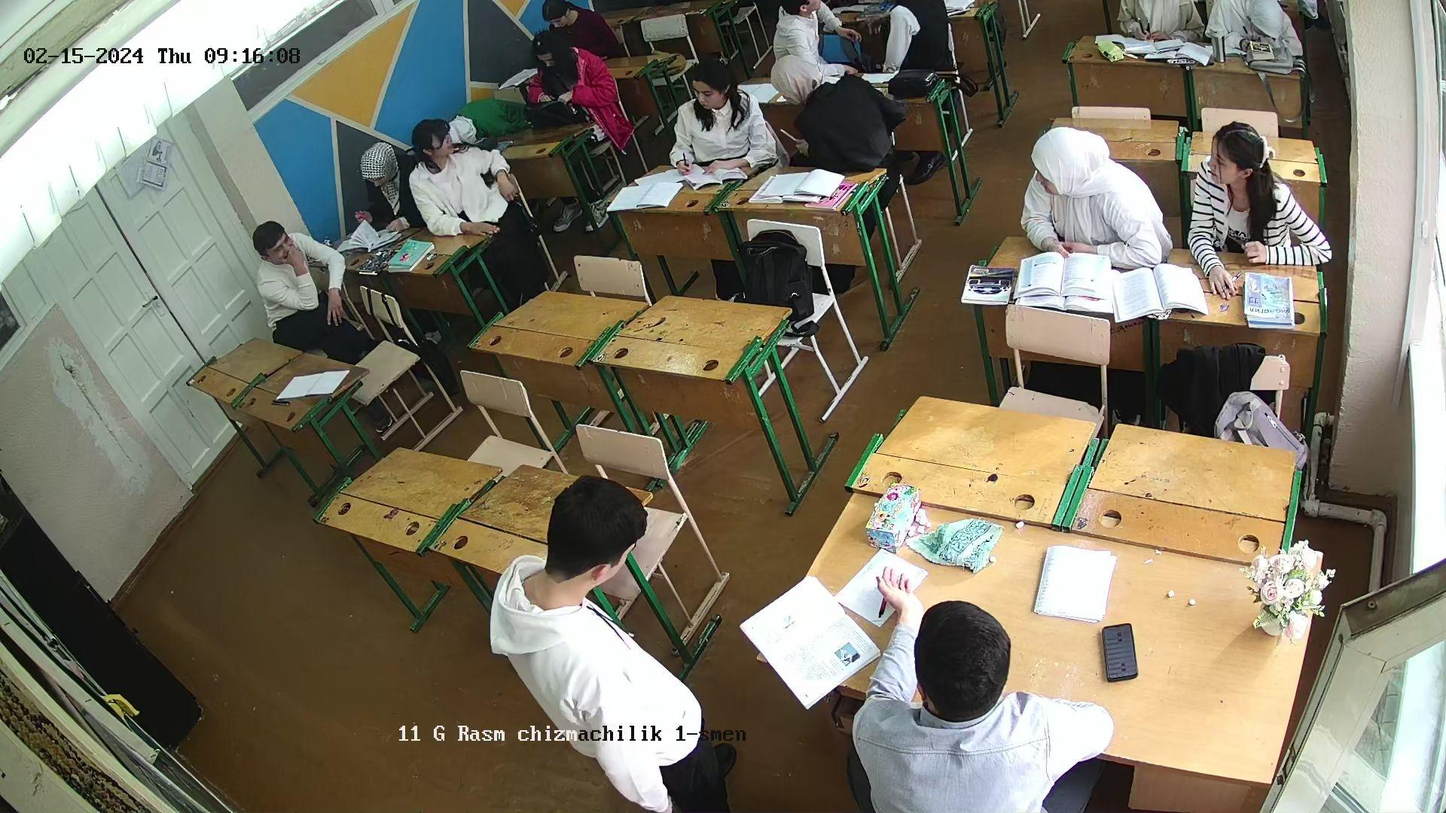Look Around: (1188, 116, 1339, 301), (1012, 116, 1157, 280), (233, 218, 355, 343), (399, 119, 517, 245), (773, 5, 845, 107), (880, 5, 952, 93)
Stand Up: (511, 468, 723, 813)
